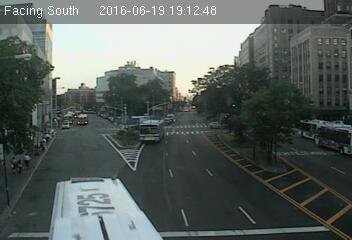neg: (39, 168, 61, 198), (260, 146, 281, 173), (206, 76, 226, 103), (80, 189, 99, 215), (204, 144, 223, 169), (244, 201, 262, 225), (234, 101, 252, 124), (20, 94, 37, 117), (295, 51, 311, 73), (295, 179, 311, 201), (84, 142, 99, 163), (121, 144, 136, 164), (178, 30, 193, 50), (258, 84, 273, 103), (33, 51, 47, 70), (130, 58, 143, 77), (138, 117, 151, 134), (169, 71, 182, 88), (187, 200, 200, 217), (44, 107, 56, 124), (141, 190, 153, 207), (89, 51, 100, 66), (250, 38, 261, 53)
pos: (22, 150, 37, 171), (5, 154, 20, 174)
